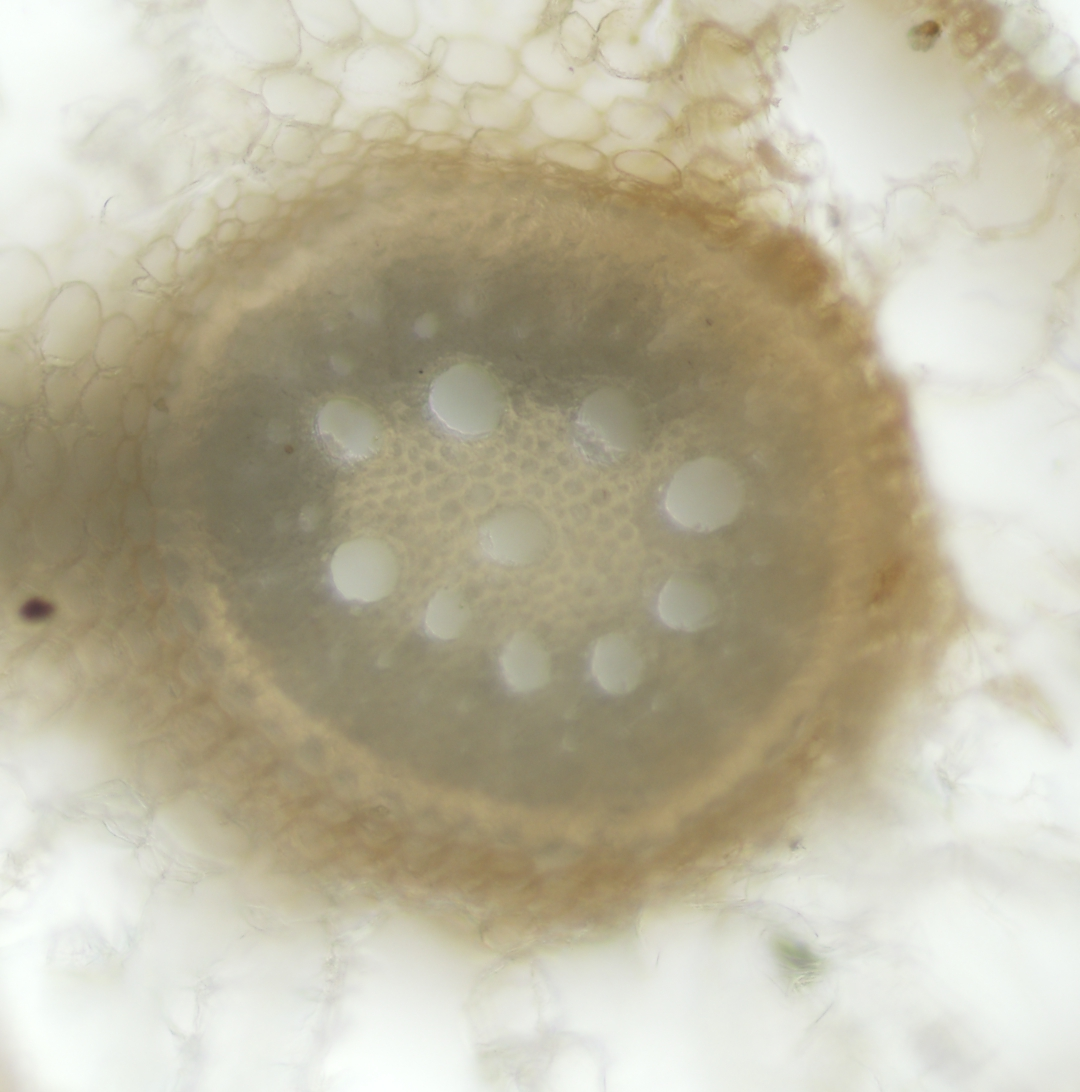lm: (571, 382, 654, 467), (664, 455, 750, 533), (430, 360, 506, 437), (479, 499, 559, 572), (316, 394, 393, 467), (331, 533, 402, 604), (590, 629, 649, 696), (658, 575, 723, 632), (499, 625, 554, 692), (425, 583, 475, 639)
